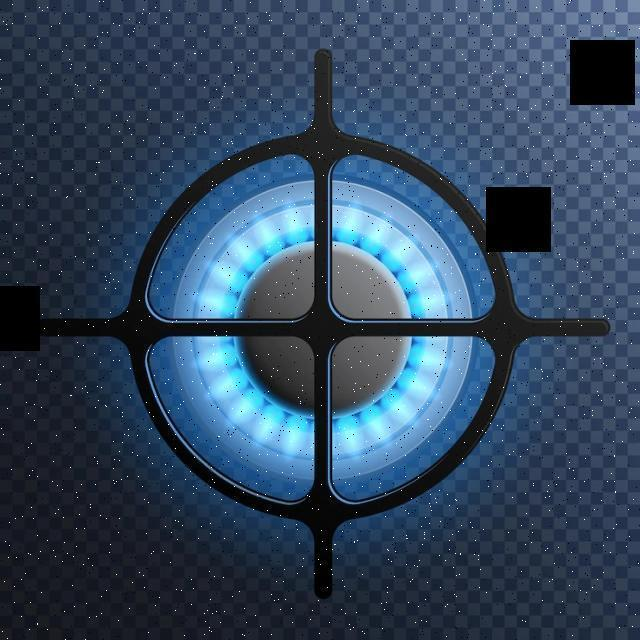Flame: (165, 166, 488, 499)
